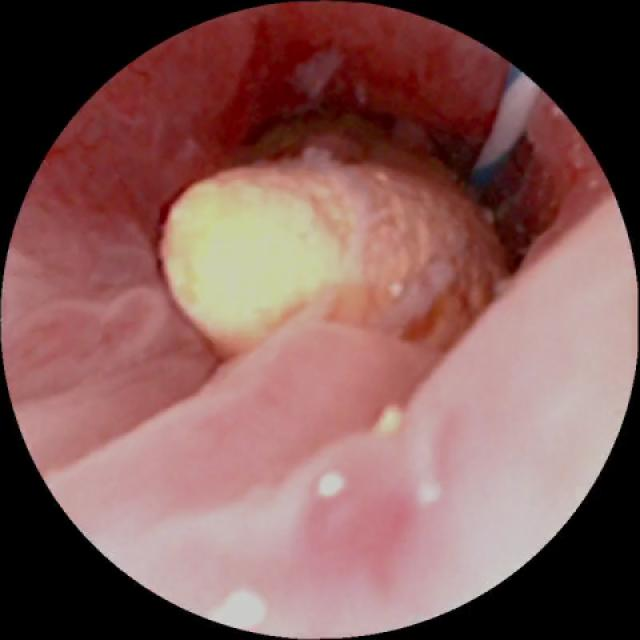stone: (165, 120, 499, 349)
tissue: (16, 6, 613, 629)
